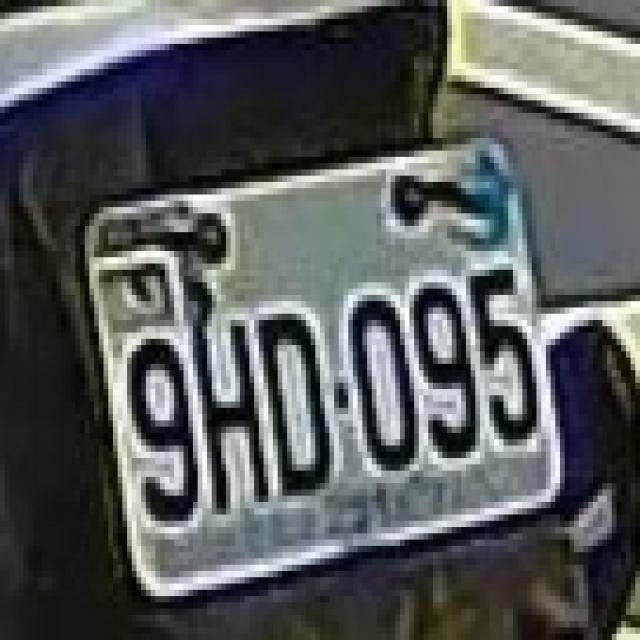license-plate: (78, 133, 564, 603)
